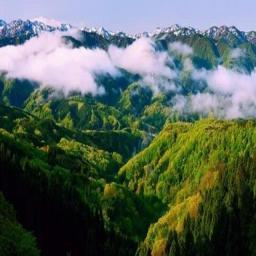Heavy smoke: (0, 13, 255, 125)
